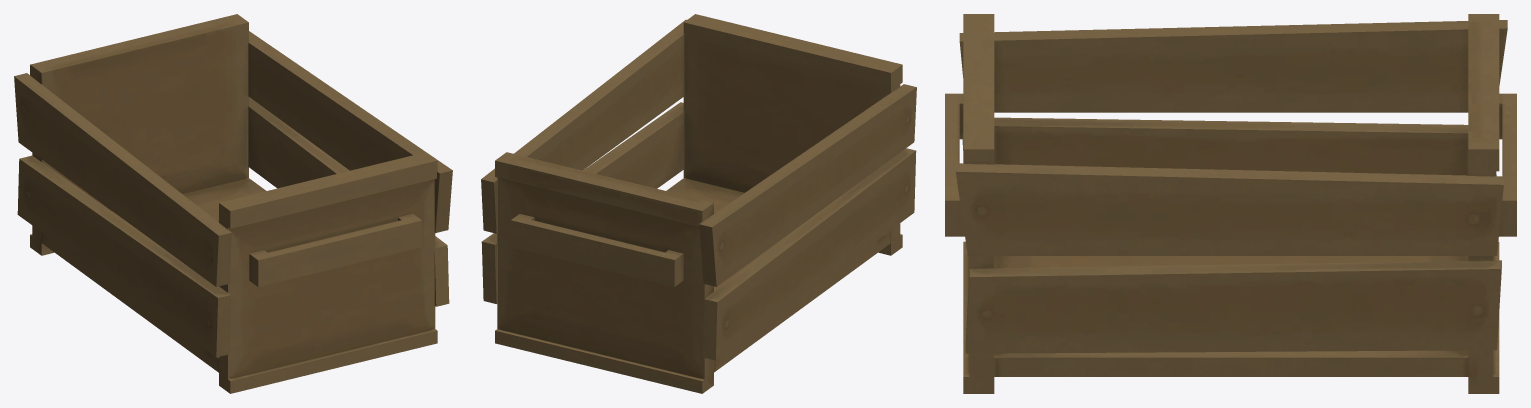
Rendered from SM_wooden_box_02.glb.
3 views of the same model, side by side, from view 1: azimuth 30°, elevation 25°; view 2: azimuth 150°, elevation 25°; view 3: azimuth 270°, elevation 25° (orthographic). The views are drawn at different scales.
Visible parts, largest first — view 1: SM_wooden_box_02; view 2: SM_wooden_box_02; view 3: SM_wooden_box_02.
Boxes of the visible parts, x1,y1,x2,y2 form: SM_wooden_box_02: (14,14,452,393); SM_wooden_box_02: (481,14,916,393); SM_wooden_box_02: (945,14,1516,393).
Bounding box in the file's own units: 0.4683 × 0.3517 × 0.7452.
Materials: 1 (1 with a texture image).
